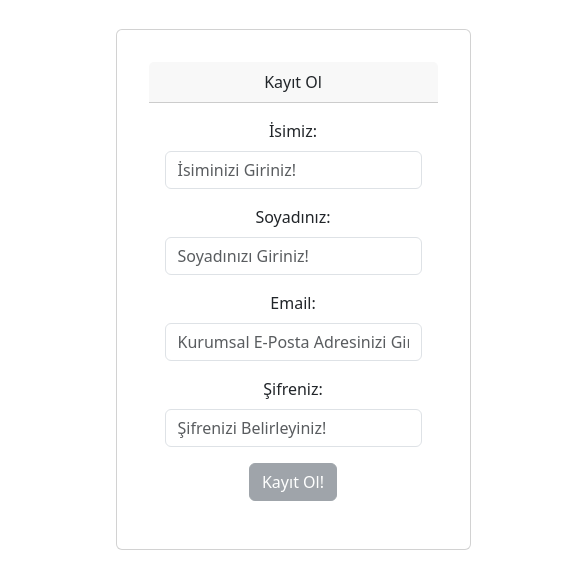
Scenario: Register Page › Error Messages › Password input throws error for 1233
In the password field with test id "password-input": (294, 428) [165,409,422,447], type "1233"
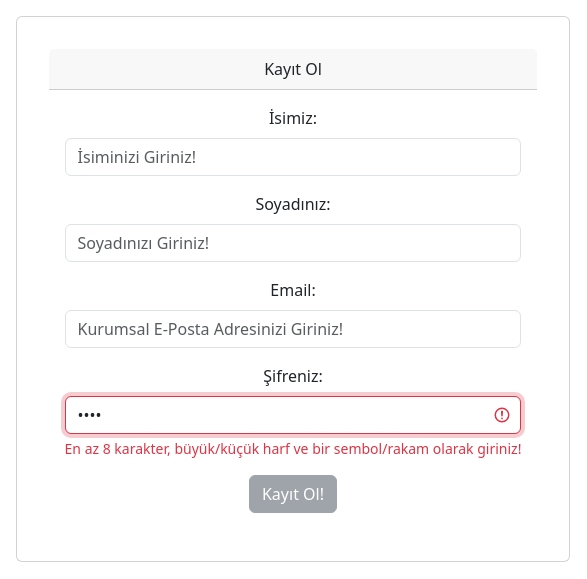
Result: the text "En az 8 karakter, büyük/küçük harf ve bir sembol/rakam olarak giriniz!" is shown at [65,438,522,459]
